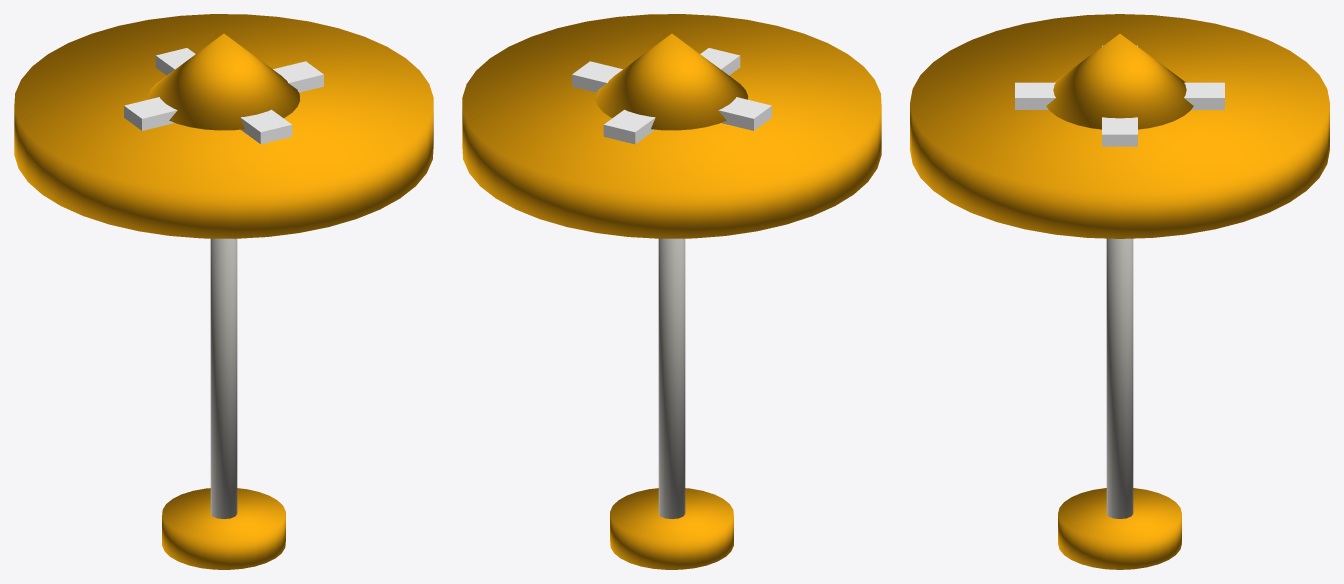
File: prop_umbrella.glb
3 views of the same model, side by side, from view 1: azimuth 30°, elevation 25°; view 2: azimuth 150°, elevation 25°; view 3: azimuth 270°, elevation 25° (orthographic).
Visible parts, largest first — view 1: umbrella canopy volume, umbrella tiny peak, umbrella base disk, umbrella pole, white umbrella canopy panel, white umbrella canopy panel.001, white umbrella canopy panel.002; view 2: umbrella canopy volume, umbrella tiny peak, umbrella base disk, umbrella pole, white umbrella canopy panel.001, white umbrella canopy panel, white umbrella canopy panel.002; view 3: umbrella canopy volume, umbrella tiny peak, umbrella base disk, umbrella pole, white umbrella canopy panel.001, white umbrella canopy panel.
Part boxes in pixels (x1,y1,x2,y2): umbrella canopy volume: [14, 14, 433, 238]; umbrella tiny peak: [147, 33, 300, 130]; umbrella base disk: [162, 488, 285, 569]; umbrella pole: [210, 238, 237, 518]; white umbrella canopy panel: [124, 61, 323, 130]; white umbrella canopy panel.001: [155, 48, 292, 144]; white umbrella canopy panel.002: [125, 66, 323, 130]; umbrella canopy volume: [462, 14, 881, 238]; umbrella tiny peak: [595, 33, 748, 130]; umbrella base disk: [610, 488, 733, 569]; umbrella pole: [658, 238, 685, 518]; white umbrella canopy panel.001: [603, 48, 740, 144]; white umbrella canopy panel: [574, 61, 771, 130]; white umbrella canopy panel.002: [572, 62, 744, 123]; umbrella canopy volume: [910, 14, 1329, 238]; umbrella tiny peak: [1046, 34, 1193, 129]; umbrella base disk: [1058, 488, 1181, 569]; umbrella pole: [1106, 238, 1133, 518]; white umbrella canopy panel.001: [1015, 82, 1224, 109]; white umbrella canopy panel: [1102, 45, 1137, 146].
Bounding box in the file's own units: 0.44 × 0.59 × 0.44.
